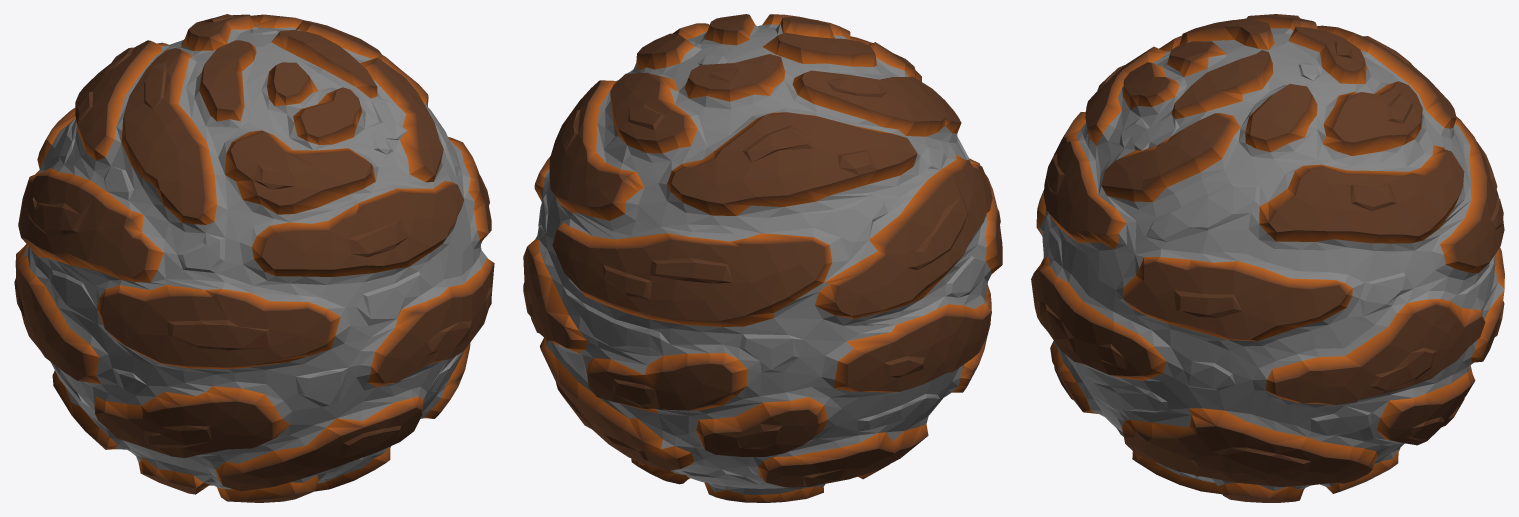
3 views of the same model, side by side, from view 1: azimuth 30°, elevation 25°; view 2: azimuth 150°, elevation 25°; view 3: azimuth 270°, elevation 25° (orthographic).
Parts seen in each view (by area): view 1: 4, 3; view 2: 4, 3; view 3: 4, 3.
Part boxes in pixels (<box>): 4: <box>14,14,494,502</box>; 3: <box>24,24,487,489</box>; 4: <box>523,14,1002,502</box>; 3: <box>535,23,991,494</box>; 4: <box>1031,14,1504,502</box>; 3: <box>1039,28,1504,490</box>.
Size of the model in its own units: 4929 by 5055 by 4917.
